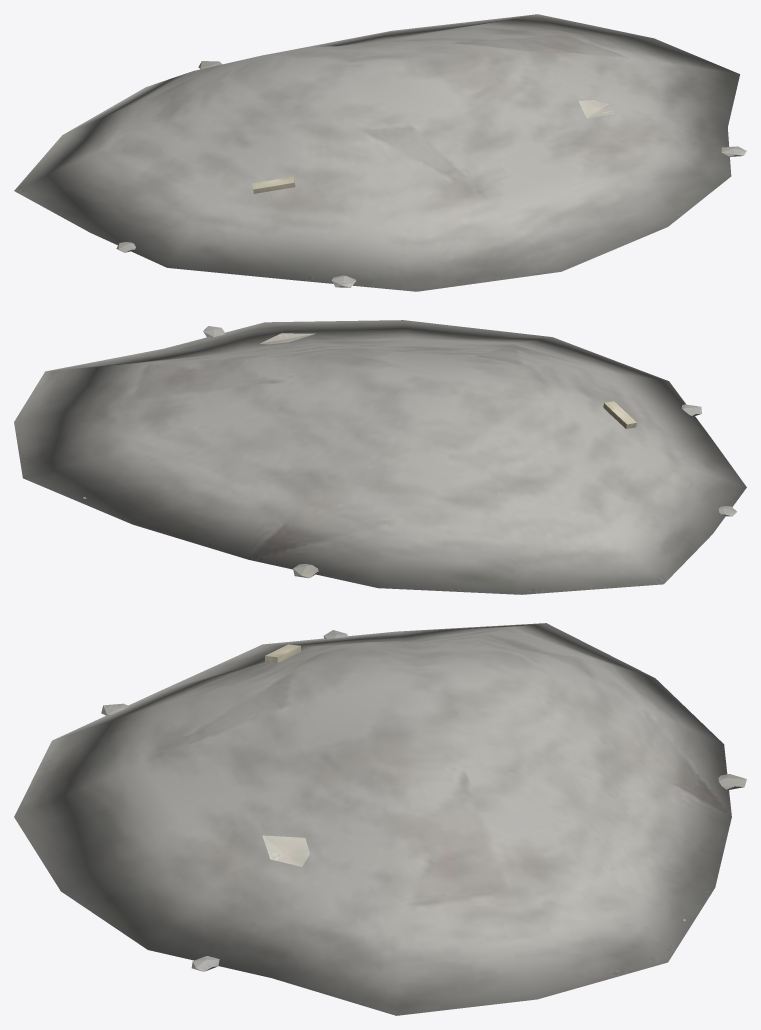
The model's file is D34_dust_pile.glb.
3 renders of one model, top to bottom at view 1: azimuth 30°, elevation 25°; view 2: azimuth 150°, elevation 25°; view 3: azimuth 270°, elevation 25°, orthographic. The views are drawn at different scales.
Parts seen in each view (by area): view 1: Dust pile; view 2: Dust pile; view 3: Dust pile.
Boxes of the visible parts, box(x1,y1,x2,y2) form: Dust pile: box(14, 14, 746, 291); Dust pile: box(14, 320, 746, 594); Dust pile: box(14, 623, 746, 1015).
Bounding box in the file's own units: 0.6 × 0.0814 × 0.4731.
Materials: 4 (4 with a texture image).
